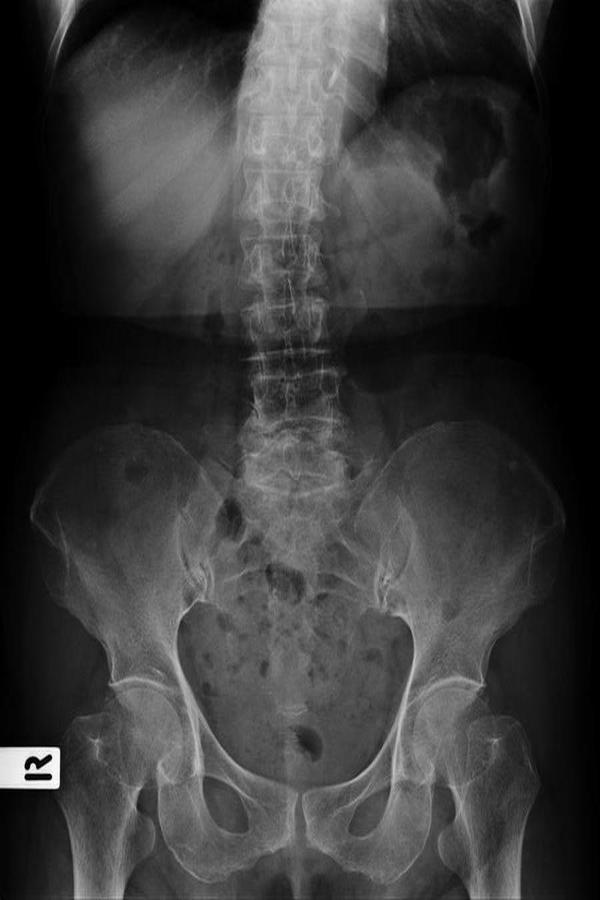lumbar scoliosis: (229, 6, 358, 508)
